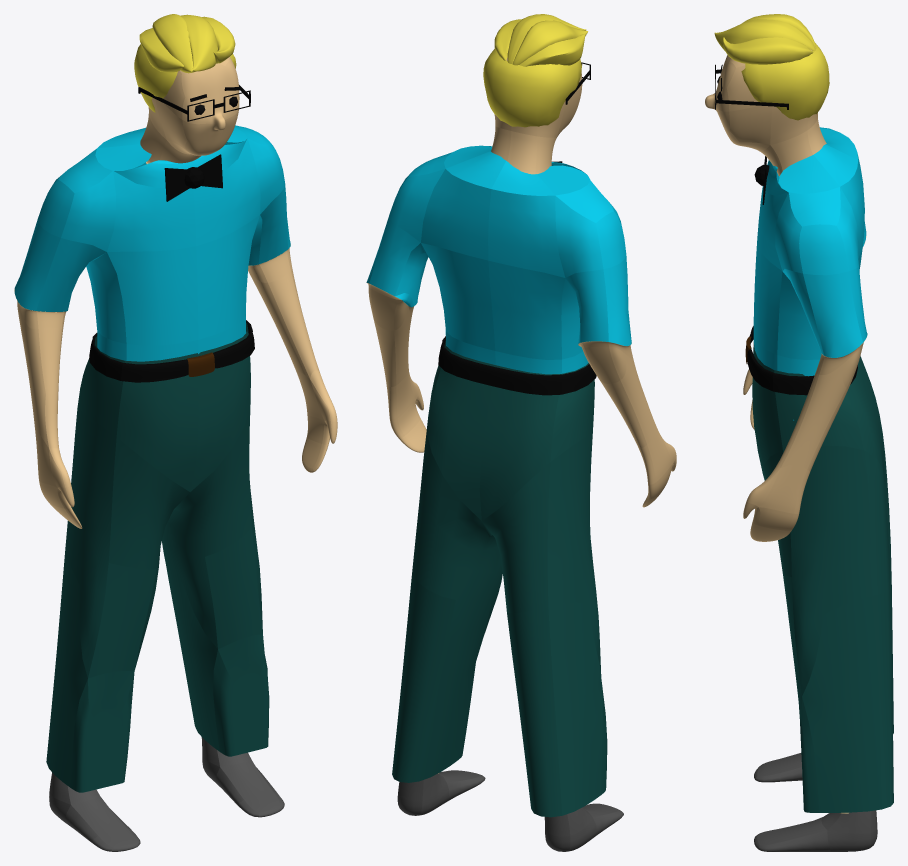
Rendered from Personaje4.fbx.
3 renders of one model, left to right at view 1: azimuth 30°, elevation 25°; view 2: azimuth 150°, elevation 25°; view 3: azimuth 270°, elevation 25°, orthographic. The views are drawn at different scales.
Parts seen in each view (by area): view 1: Pantalon.003, Camisa.003, Piel.003, Zapatos.003, hairStyle_boy000_geo, Cinturon, Corbata, Gafas; view 2: Pantalon.003, Camisa.003, Piel.003, hairStyle_boy000_geo, Zapatos.003, Cinturon; view 3: Pantalon.003, Camisa.003, Piel.003, hairStyle_boy000_geo, Zapatos.003, Cinturon, Gafas.
Boxes of the visible parts, <box> form: Pantalon.003: <box>46,323,269,792</box>; Camisa.003: <box>14,125,290,361</box>; Piel.003: <box>14,57,337,528</box>; Zapatos.003: <box>49,737,284,851</box>; hairStyle_boy000_geo: <box>134,14,236,112</box>; Cinturon: <box>89,320,254,382</box>; Corbata: <box>164,154,222,201</box>; Gafas: <box>138,85,250,121</box>; Pantalon.003: <box>392,340,607,817</box>; Camisa.003: <box>366,145,631,374</box>; Piel.003: <box>366,57,676,507</box>; hairStyle_boy000_geo: <box>483,14,587,127</box>; Zapatos.003: <box>397,770,623,851</box>; Cinturon: <box>438,336,596,395</box>; Pantalon.003: <box>752,342,893,812</box>; Camisa.003: <box>753,127,867,420</box>; Piel.003: <box>705,49,866,541</box>; hairStyle_boy000_geo: <box>714,14,829,120</box>; Zapatos.003: <box>754,753,877,851</box>; Cinturon: <box>747,326,857,395</box>; Gafas: <box>715,64,788,109</box>.
Size of the model in its own units: 99.63 by 277 by 59.86.
